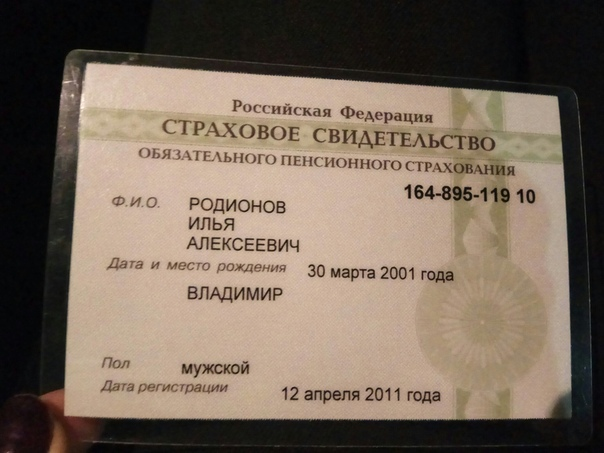text: (279, 380, 442, 405), (401, 180, 540, 208), (304, 260, 455, 283), (183, 234, 304, 255), (184, 281, 287, 305), (186, 193, 288, 216), (178, 357, 254, 376), (183, 212, 240, 231)
